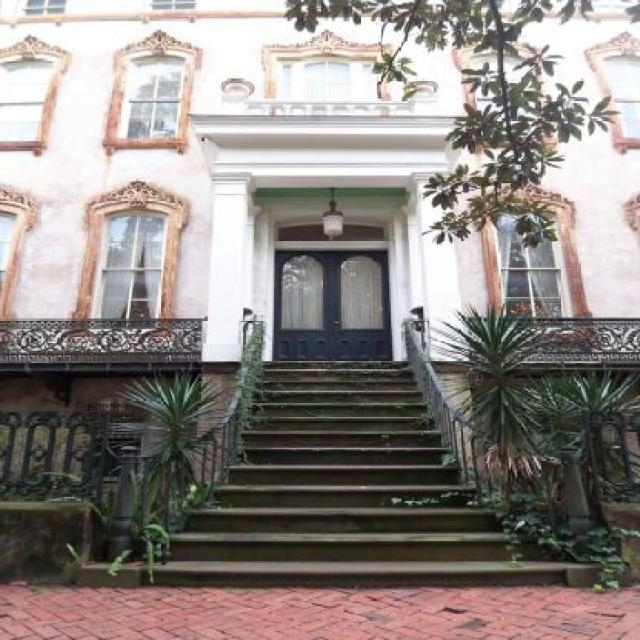stair: (135, 357, 631, 588)
